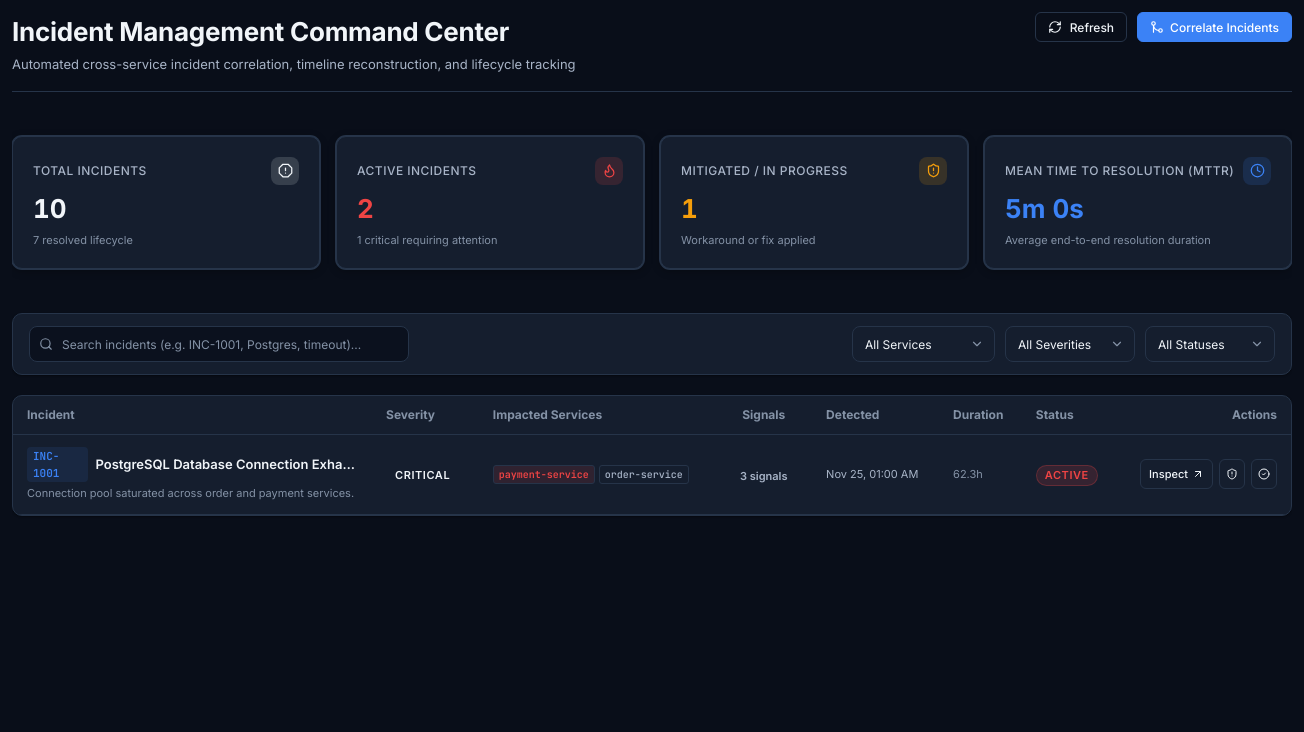
Phase 9: Automated Incident Management UI Components › IncidentsPage Integration › fetches incidents, displays table, and handles correlation trigger
Check: the text "Incident Management Command Center" is shown, box [12, 12, 509, 51]
Check: the text "INC-1001" is shown, box [27, 447, 88, 482]
Note: Trigger correlation button
Click the button "Correlate Incidents": (1215, 27) [1137, 12, 1292, 42]
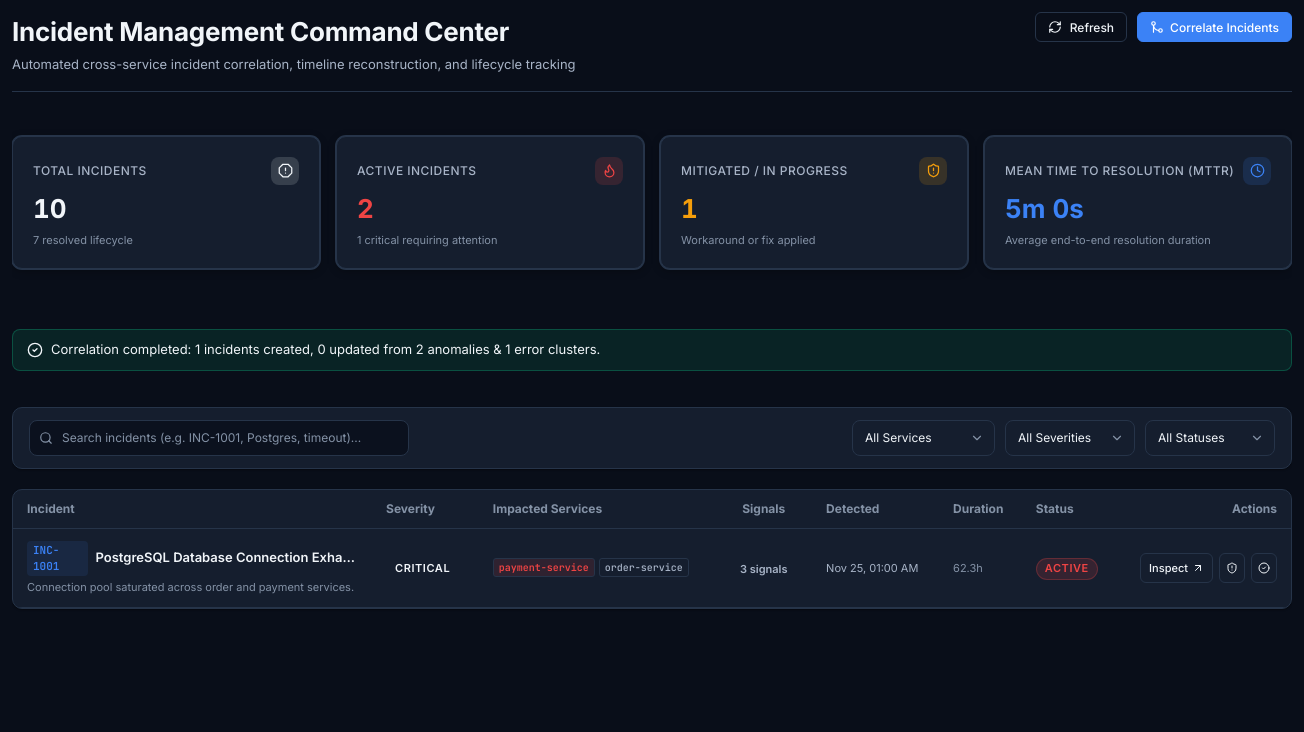
Check: the text "Correlation completed" is shown, box [51, 341, 600, 357]
